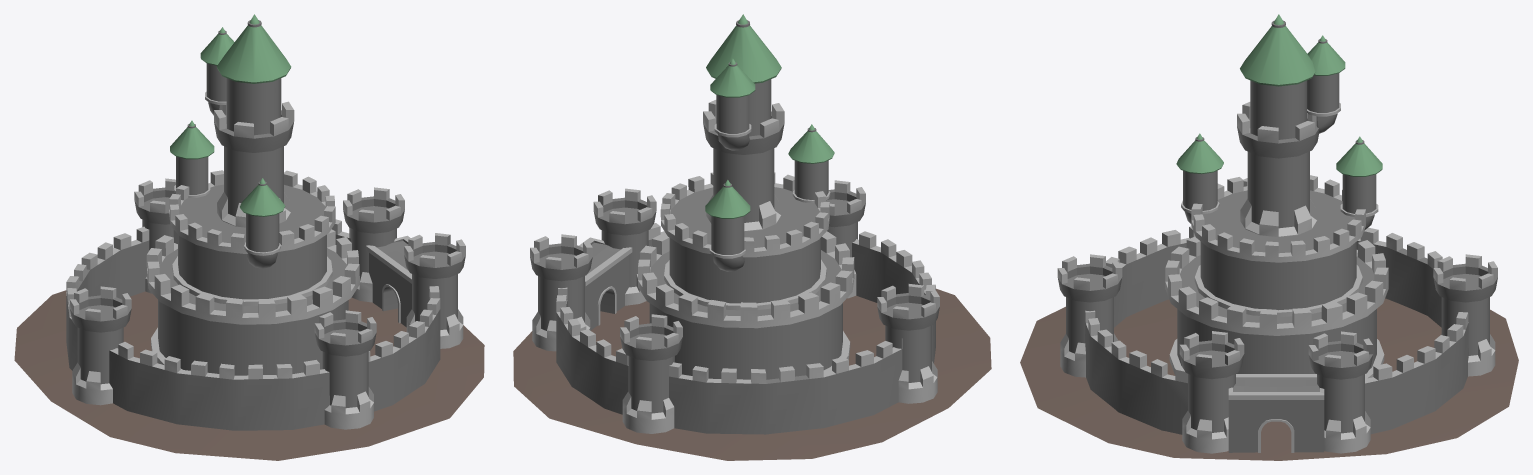
Rendered from aG0AF5d-zbY.glb.
3 renders of one model, left to right at view 1: azimuth 30°, elevation 25°; view 2: azimuth 150°, elevation 25°; view 3: azimuth 270°, elevation 25°, orthographic. The views are drawn at different scales.
Visible parts, largest first — view 1: SM_Fortress:SM_Fortress; view 2: SM_Fortress:SM_Fortress; view 3: SM_Fortress:SM_Fortress.
Part boxes in pixels (x1,y1,x2,y2): SM_Fortress:SM_Fortress: (14,14,484,460); SM_Fortress:SM_Fortress: (513,14,991,460); SM_Fortress:SM_Fortress: (1020,14,1518,460).
Size of the model in its own units: 1.2 by 1 by 1.28.
